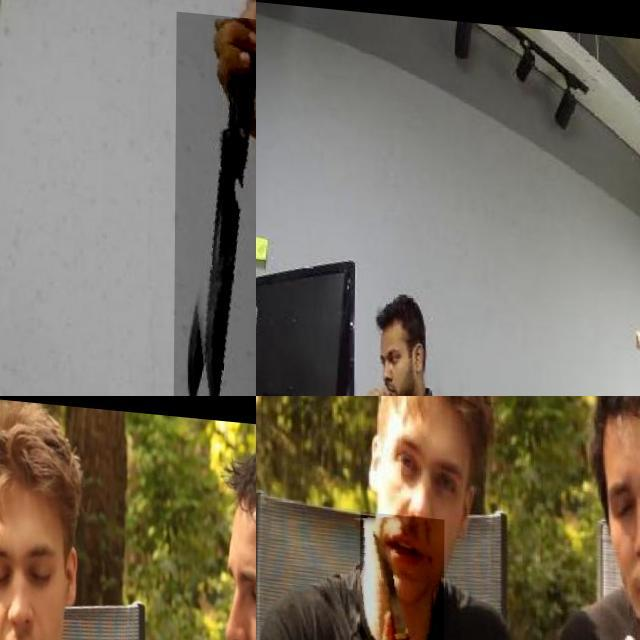-: (174, 4, 256, 396), (360, 509, 445, 640)
